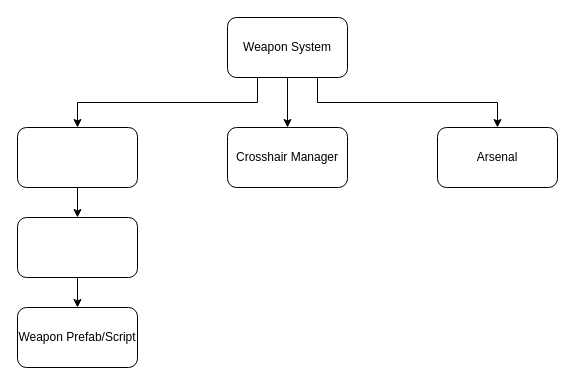
This 575x385 diagram has some shape labels left out. Each missing label, with the box of its shape:
Weapon Controller: (16, 126, 138, 188)
Weapon Script: (16, 216, 138, 278)
